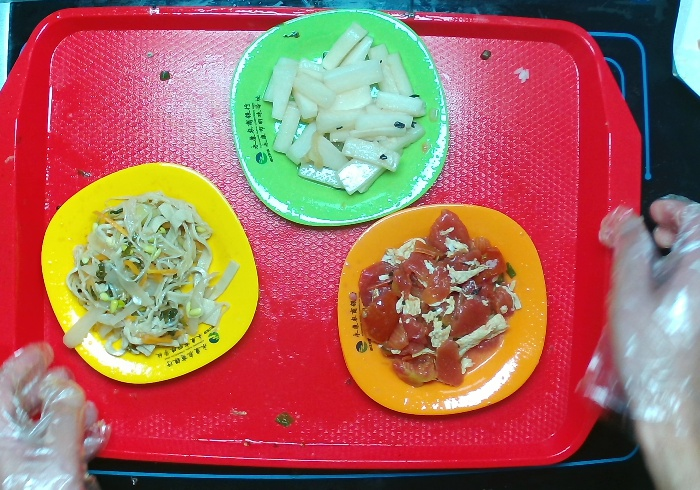YKMZ-Huang_Se_Fang_Die: (37, 157, 265, 388)
YKMZ-Ju_Se_Fang_Die: (329, 201, 551, 422)
YKMZ-Lv_Se_Fang_Die: (219, 5, 457, 236)
